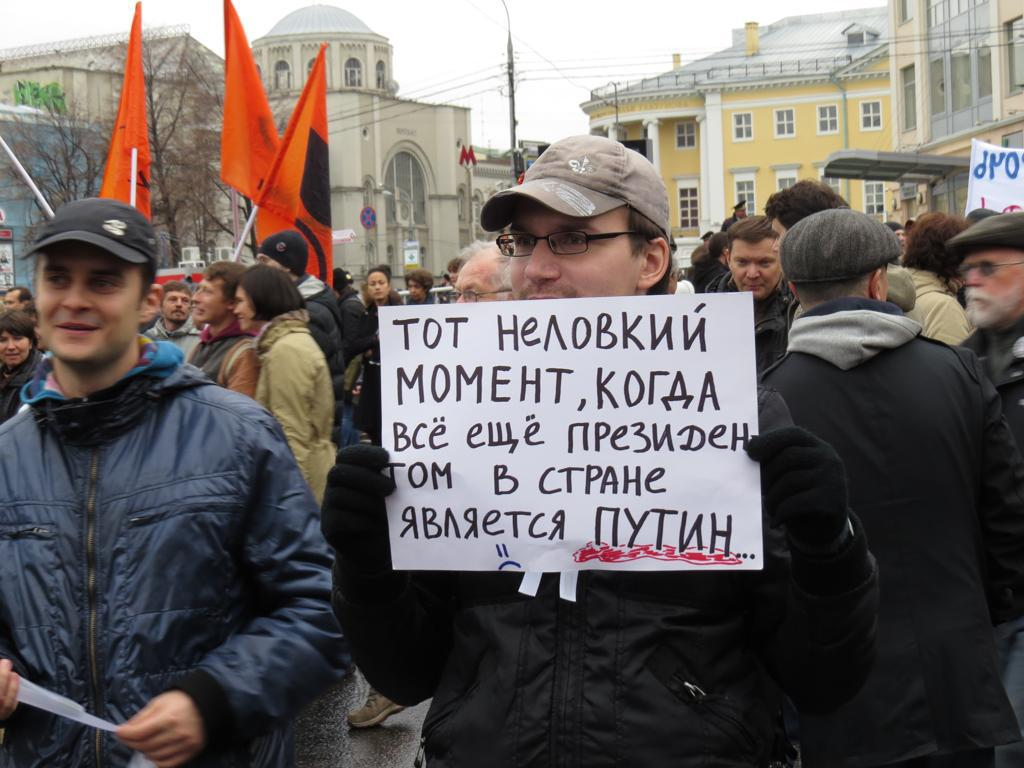face: (498, 207, 637, 354), (38, 250, 139, 359), (958, 242, 1024, 325), (454, 279, 520, 356), (730, 248, 782, 299), (772, 222, 815, 279), (234, 287, 270, 330), (192, 278, 227, 321), (256, 252, 290, 290), (1, 329, 30, 364), (27, 315, 55, 349), (163, 293, 191, 320), (450, 275, 470, 301), (367, 278, 389, 299), (4, 297, 23, 320), (889, 231, 906, 253), (409, 281, 424, 299), (739, 208, 746, 218)
